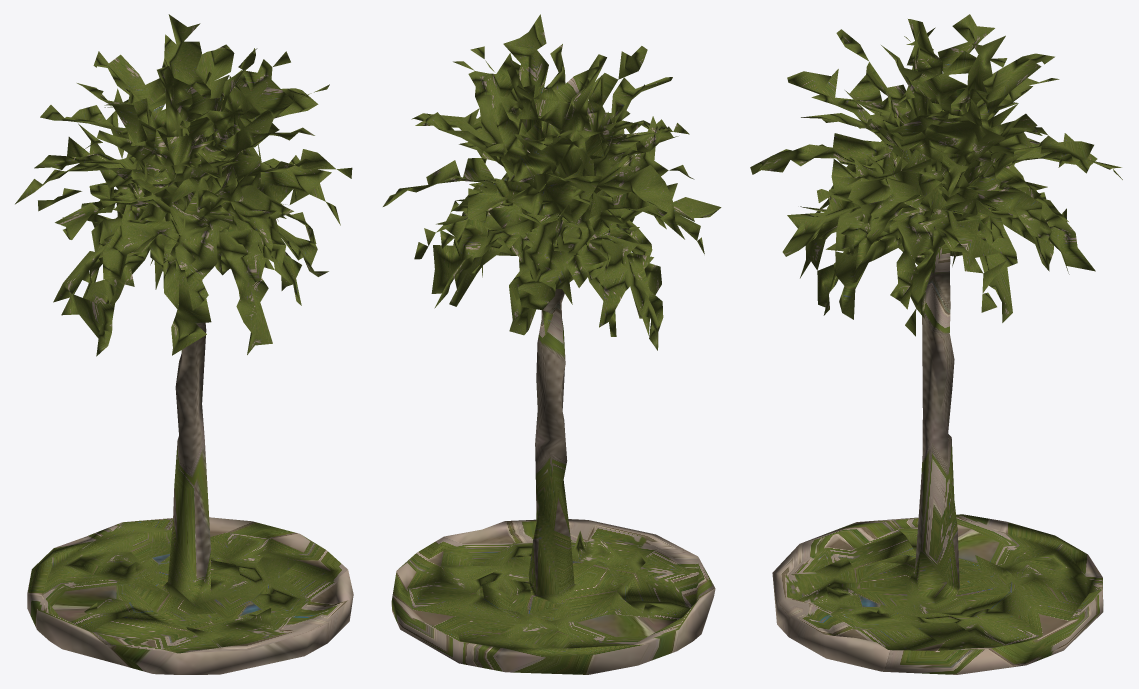
File: palmbase_lod1.glb
3 views of the same model, side by side, from view 1: azimuth 30°, elevation 25°; view 2: azimuth 150°, elevation 25°; view 3: azimuth 270°, elevation 25° (orthographic). The views are drawn at different scales.
Bounding box in the file's own units: 1.01 × 1.87 × 1.09.
1 material, 1 textured.
